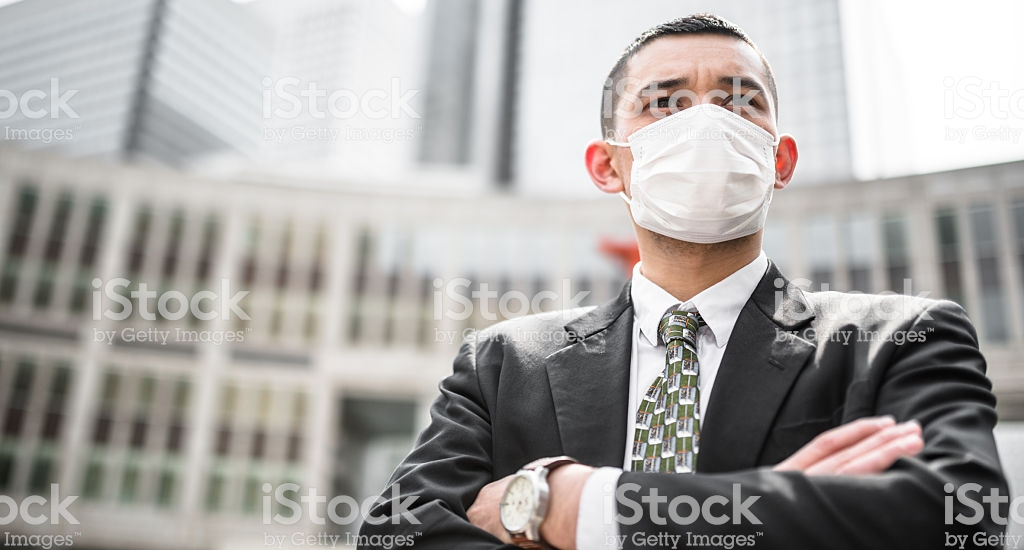mask: (621, 105, 777, 245)
